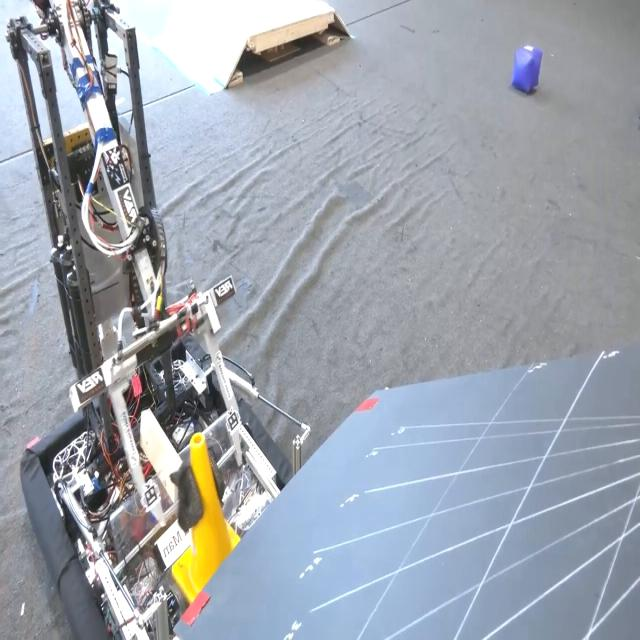frc_cone: (177, 422, 230, 596)
frc_cube: (510, 29, 547, 102)
